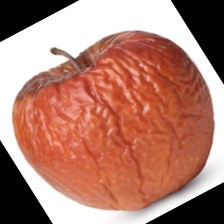apple: (50, 38, 195, 188)
